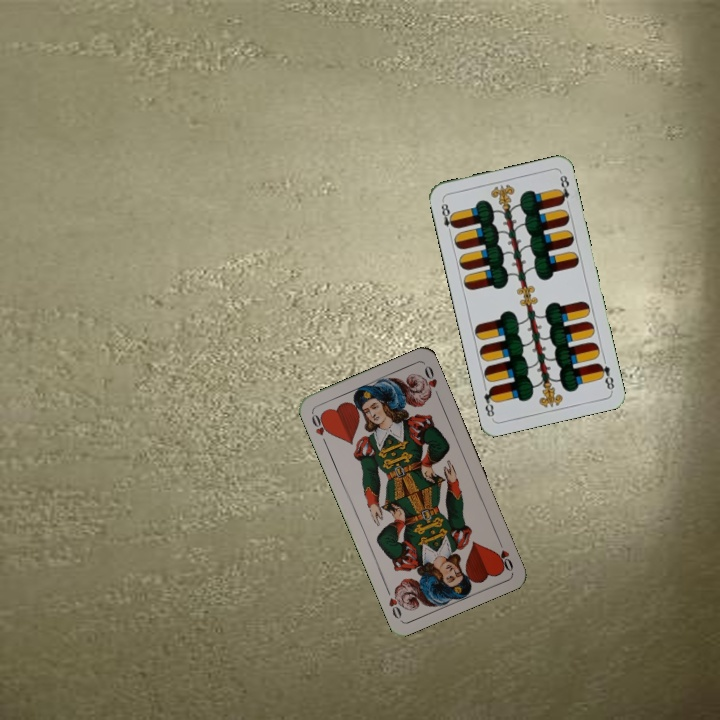E8: (437, 197, 458, 237), (594, 359, 617, 393)
HO: (307, 409, 332, 448), (493, 535, 516, 574)
